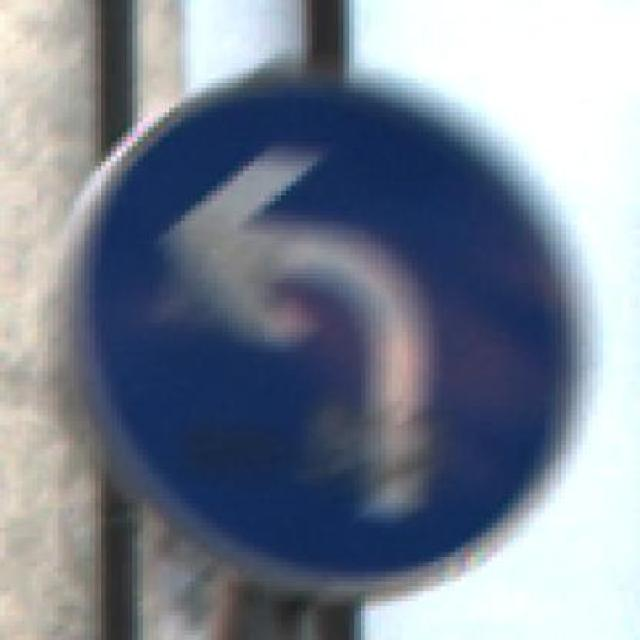Turn left ahead: (48, 48, 603, 587)
